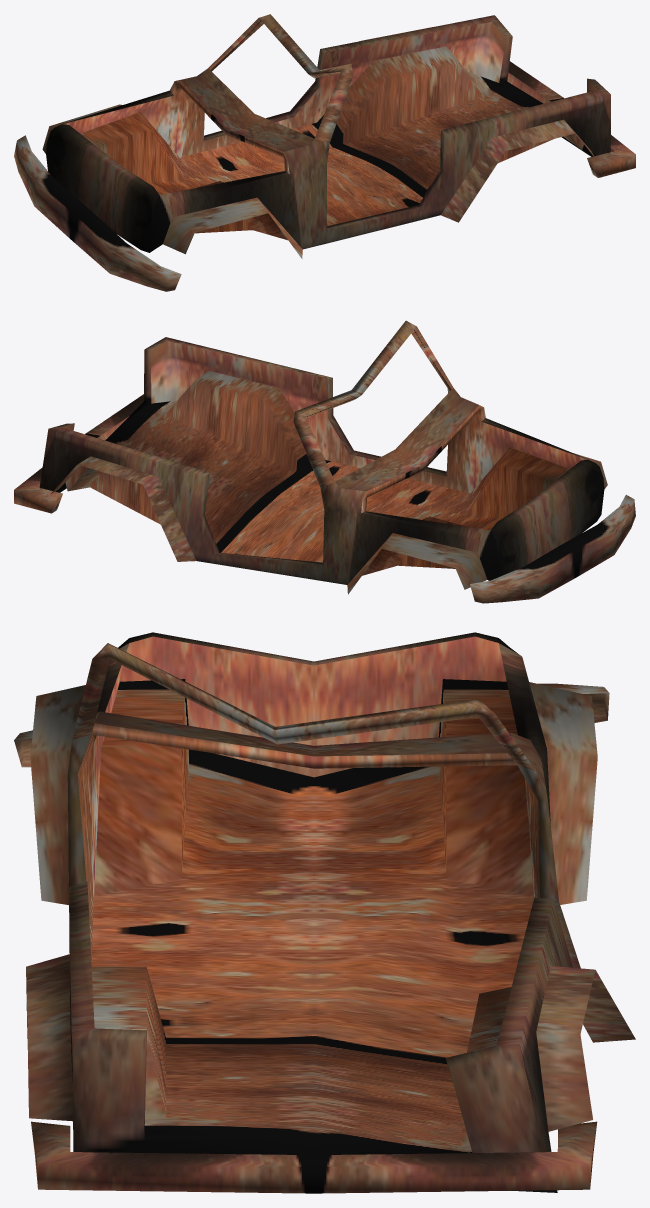
File: car.fbx
The picture shows the model from 3 angles, top to bottom: view 1: azimuth 30°, elevation 25°; view 2: azimuth 150°, elevation 25°; view 3: azimuth 270°, elevation 25°; orthographic projection. The views are drawn at different scales.
Parts seen in each view (by area): view 1: Car1; view 2: Car1; view 3: Car1.
Boxes of the visible parts, bbox=[...] form: Car1: bbox=[14, 14, 635, 291]; Car1: bbox=[14, 320, 635, 603]; Car1: bbox=[14, 632, 635, 1193].
Bounding box in the file's own units: 5584 × 3187 × 1935.
Materials: 1 (1 with a texture image).
